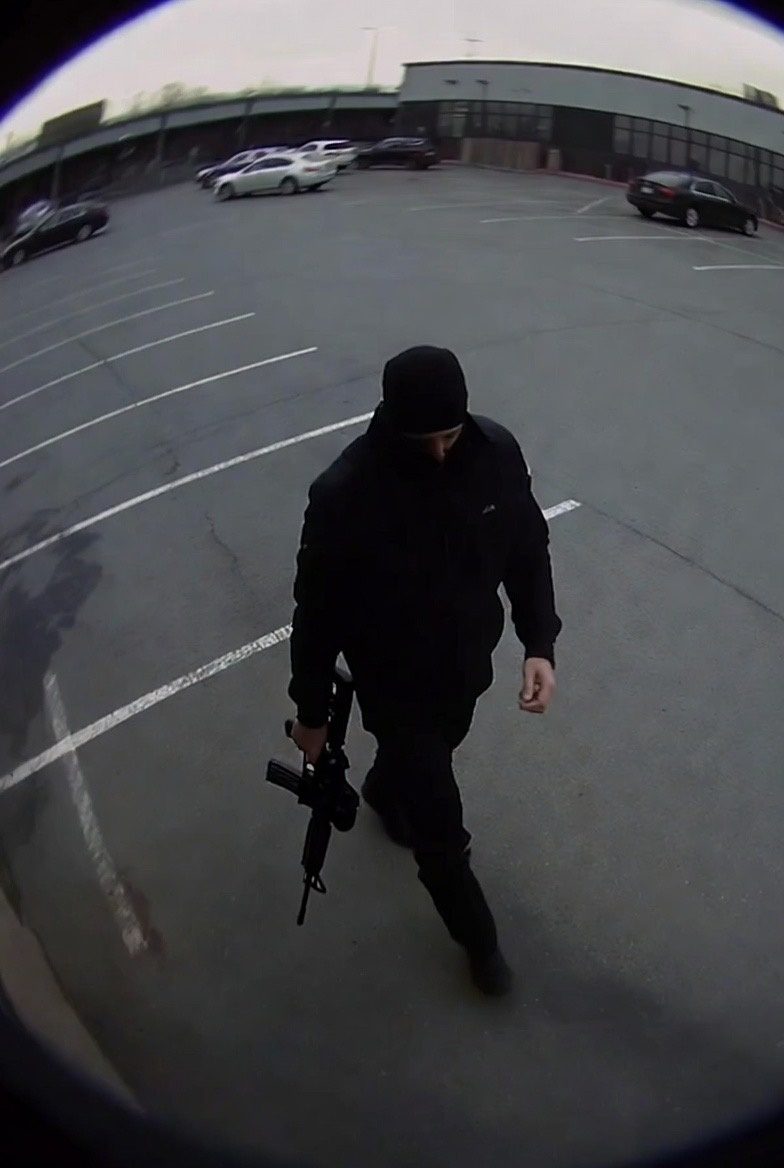gun: (231, 657, 372, 939)
person: (316, 326, 603, 998)
